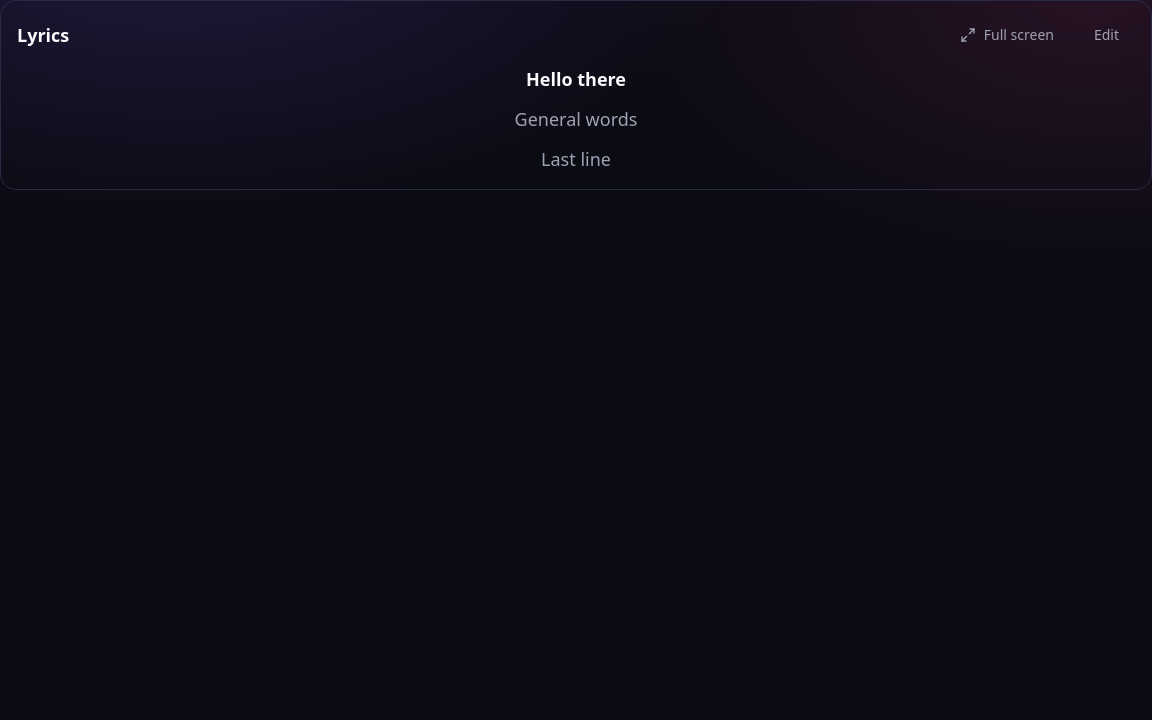
LyricsPanel › forgets unsaved edits and the unsaved offset when you cancel
Step 1. Click the button "Edit" → (1106, 35), box [1078,17,1135,53]
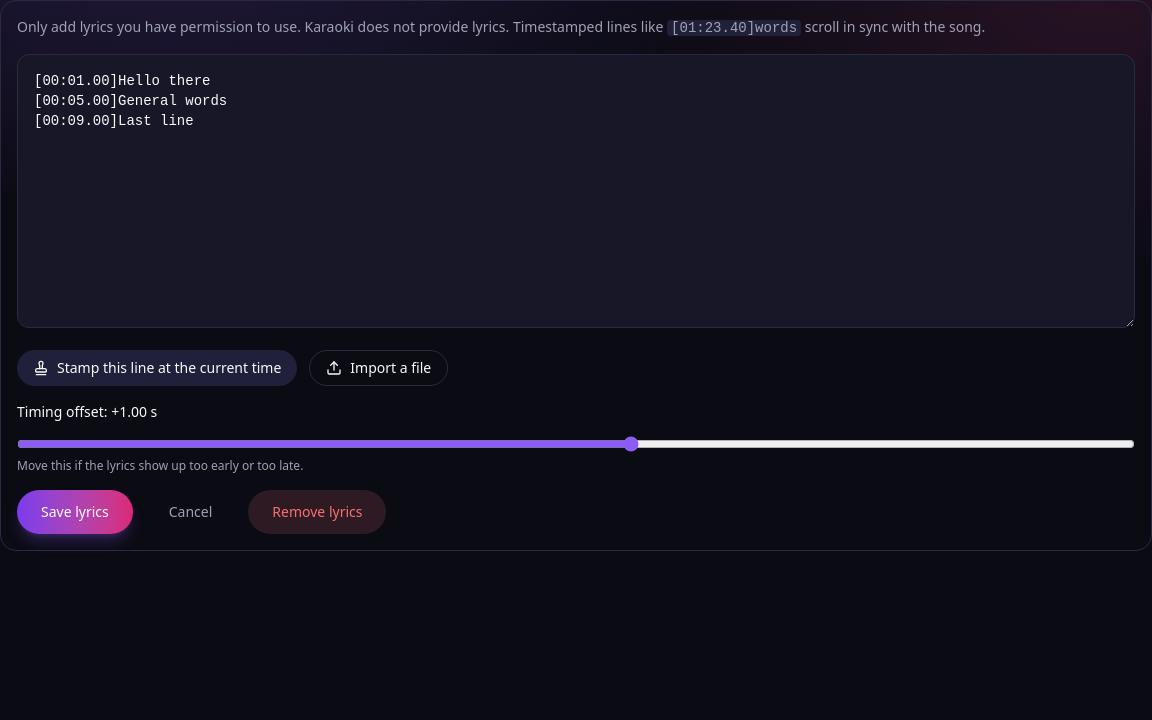
Step 2. Replace the text in the text box named "Lyrics text" with "changed" → (576, 191), box [17,54,1135,328]
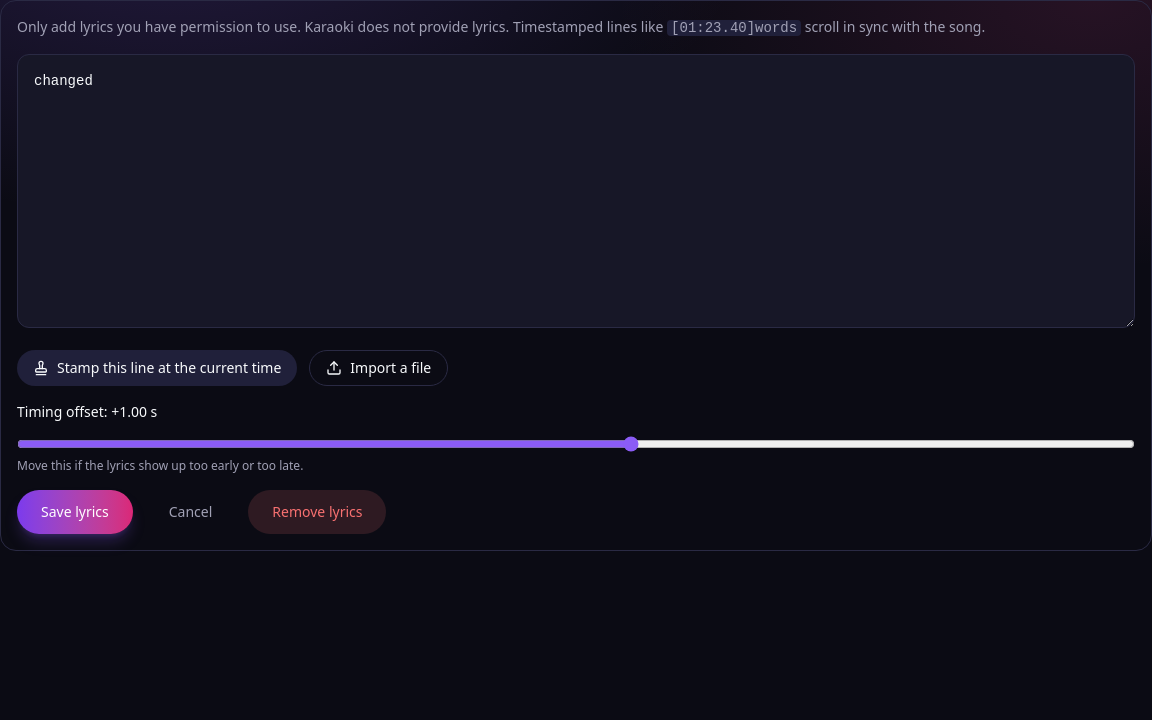
Step 3. Set the slider labelled "Timing offset: +1.00 s" to "-3000" → (411, 444), box [17,440,1135,448]
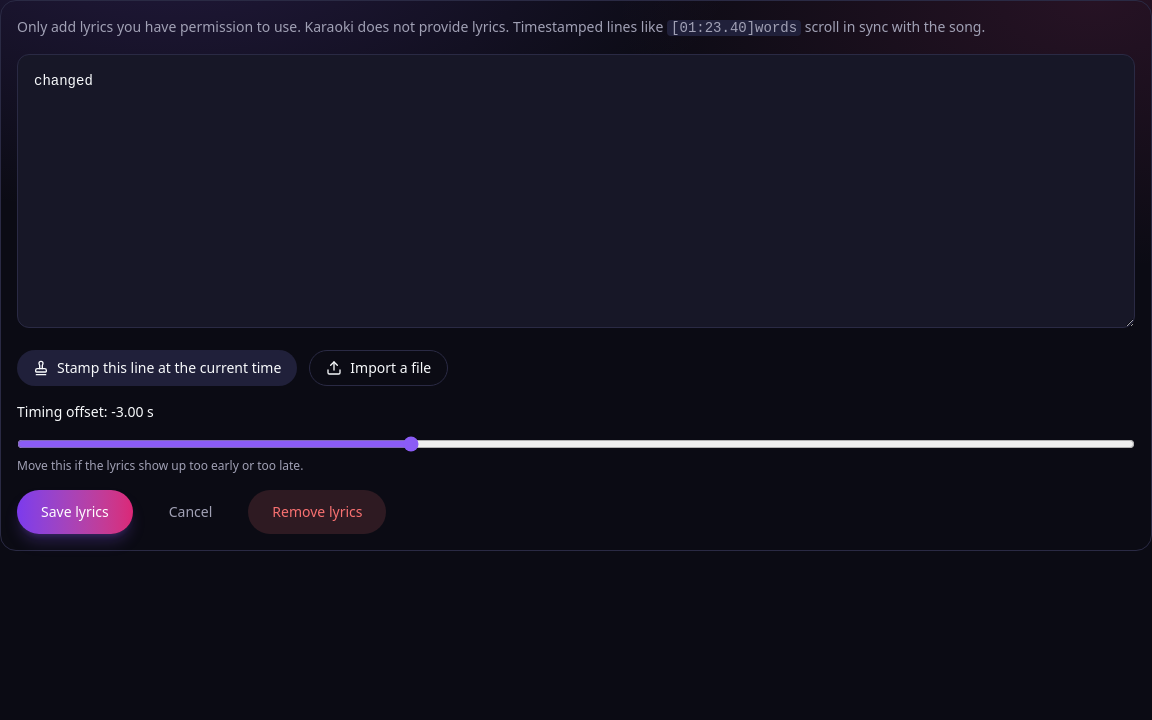
Step 4. Click the button "Cancel" → (191, 512), box [145,490,236,534]
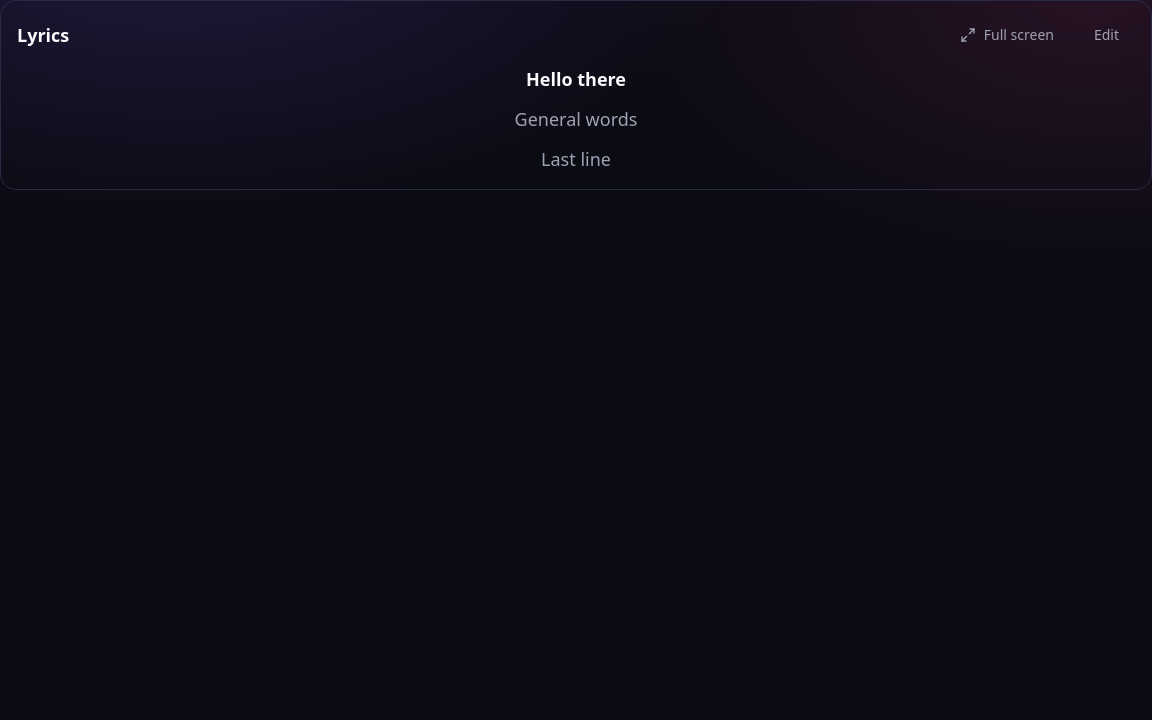
Step 5. Click the button "Edit" → (1106, 35), box [1078,17,1135,53]
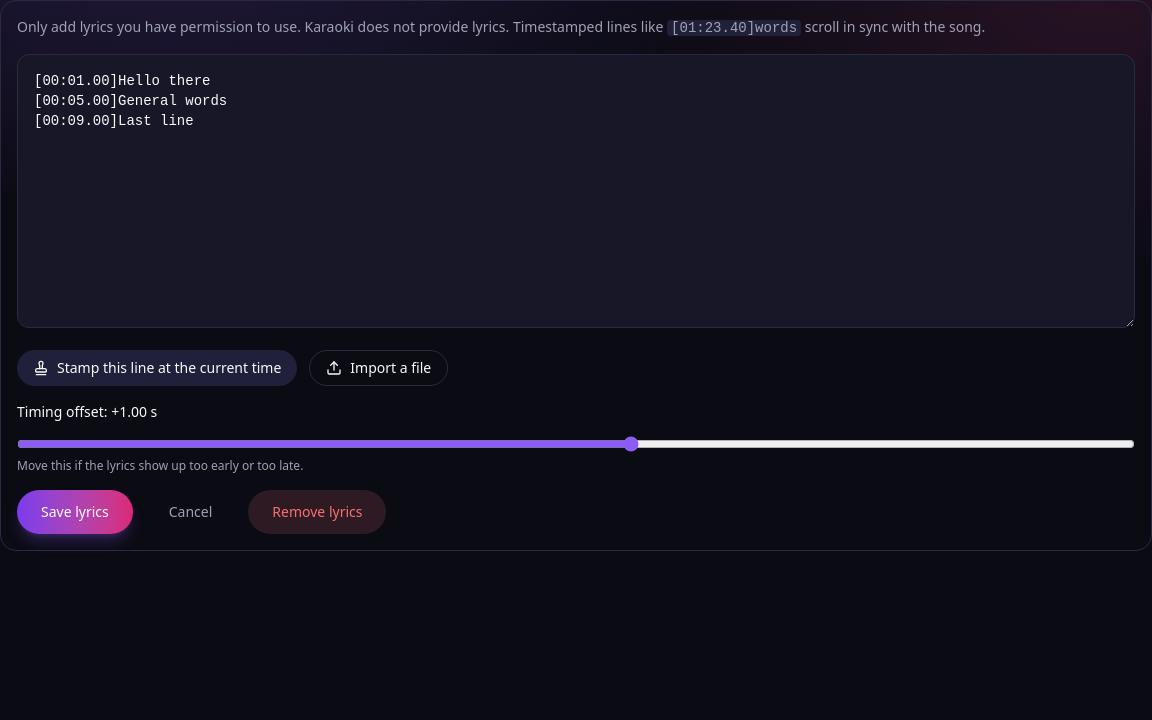
Now the slider labelled "Timing offset: +1.00 s" holds "1000", box [17,440,1135,448]
